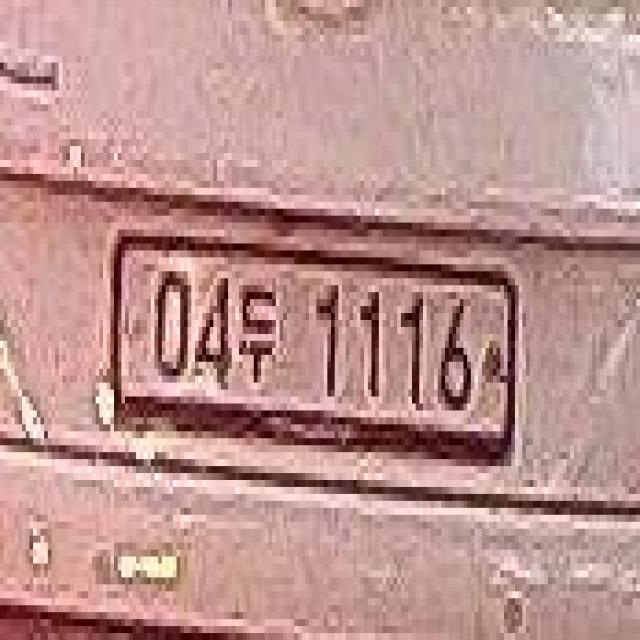illegal_plate: (105, 225, 528, 495)
